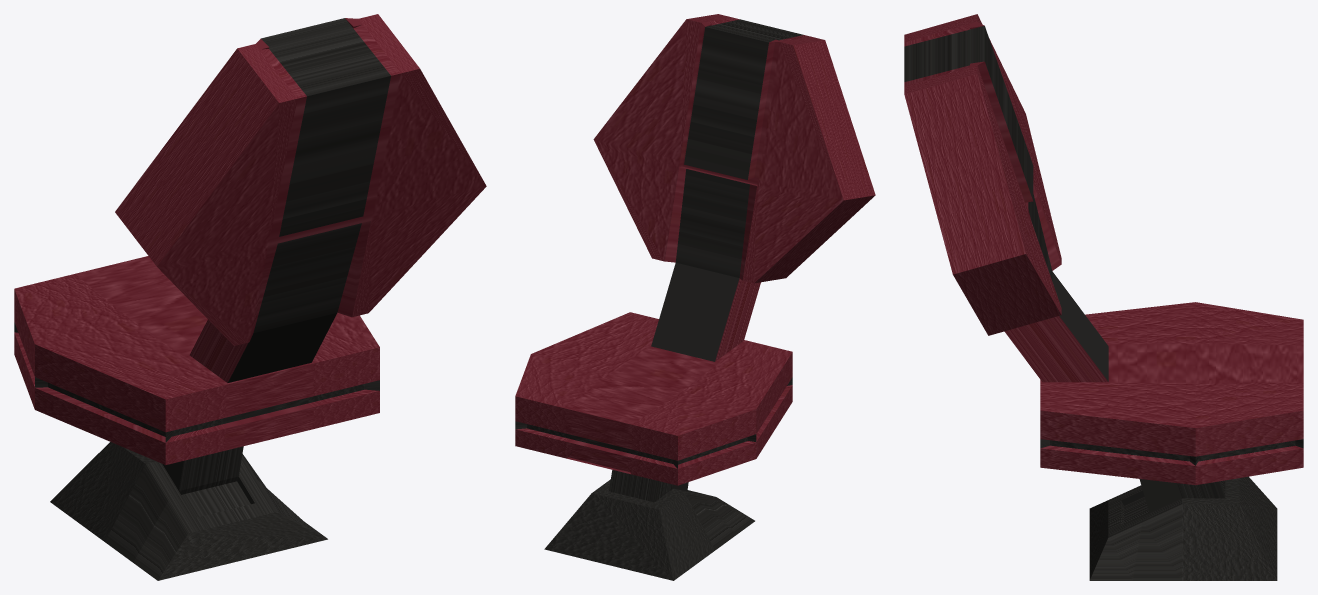
File: Silla2Roja.fbx
The picture shows the model from 3 angles, left to right: view 1: azimuth 30°, elevation 25°; view 2: azimuth 150°, elevation 25°; view 3: azimuth 270°, elevation 25°; orthographic projection. The views are drawn at different scales.
Parts seen in each view (by area): view 1: Cube.018; view 2: Cube.018; view 3: Cube.018.
Part boxes in pixels (x1=…): Cube.018: x1=14, y1=14, x2=486, y2=580; Cube.018: x1=515, y1=14, x2=875, y2=580; Cube.018: x1=904, y1=14, x2=1303, y2=580.
Bounding box in the file's own units: 133 × 223 × 161.
2 materials, 2 textured.
